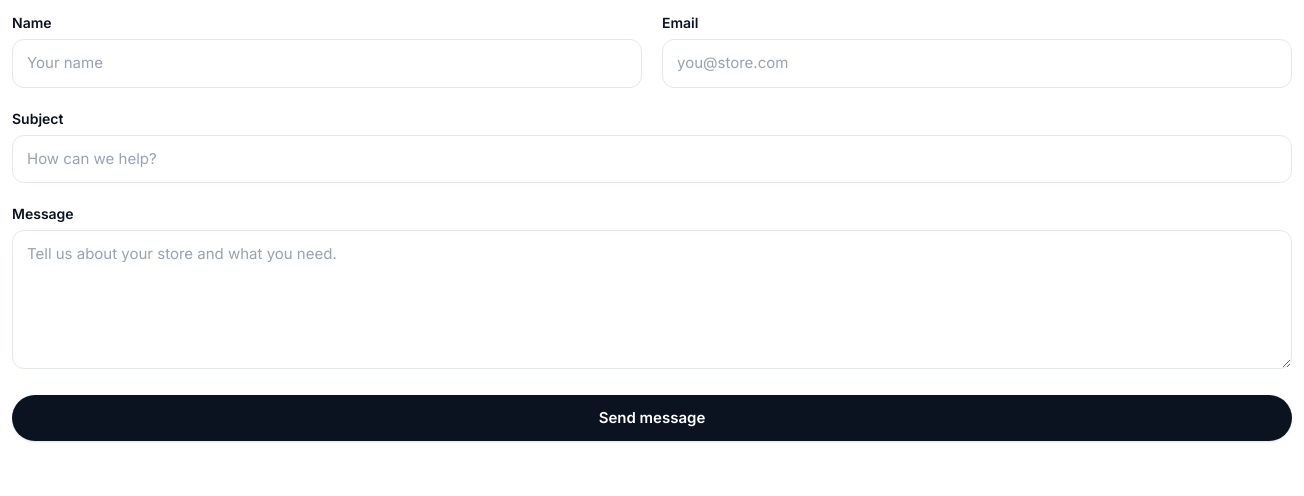
Scenario: ContactForm › shows a failure state when the server responds 400
Type "Sam" into the field labelled "Name" at (327, 63), box [12,39,642,88]
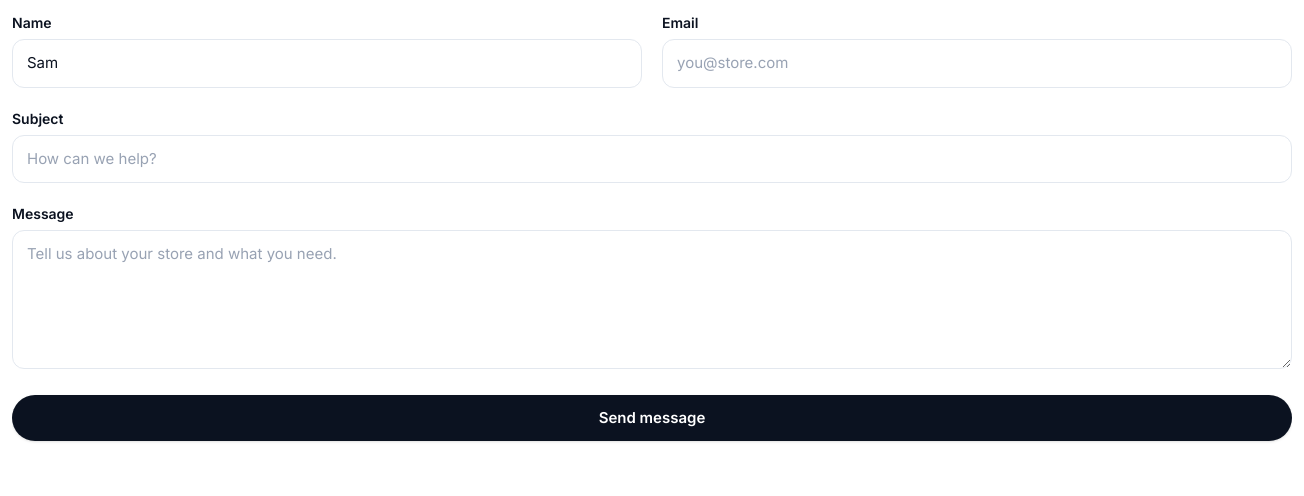
Type "sam@example.com" into the field labelled "Email" at (977, 63), box [662,39,1292,88]
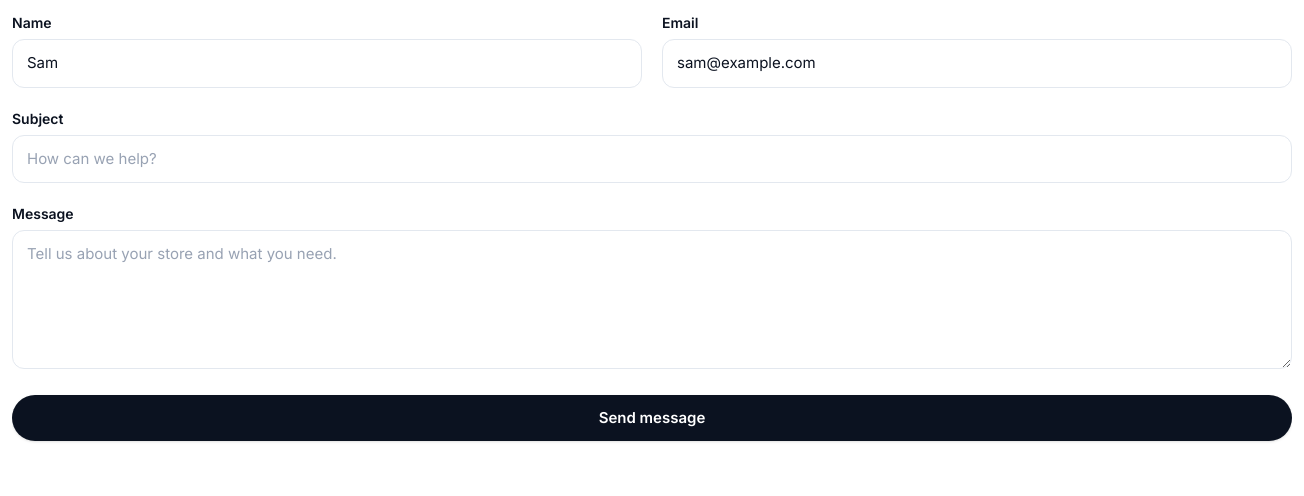
Type "Hi" into the field labelled "Subject" at (652, 159), box [12,134,1292,183]
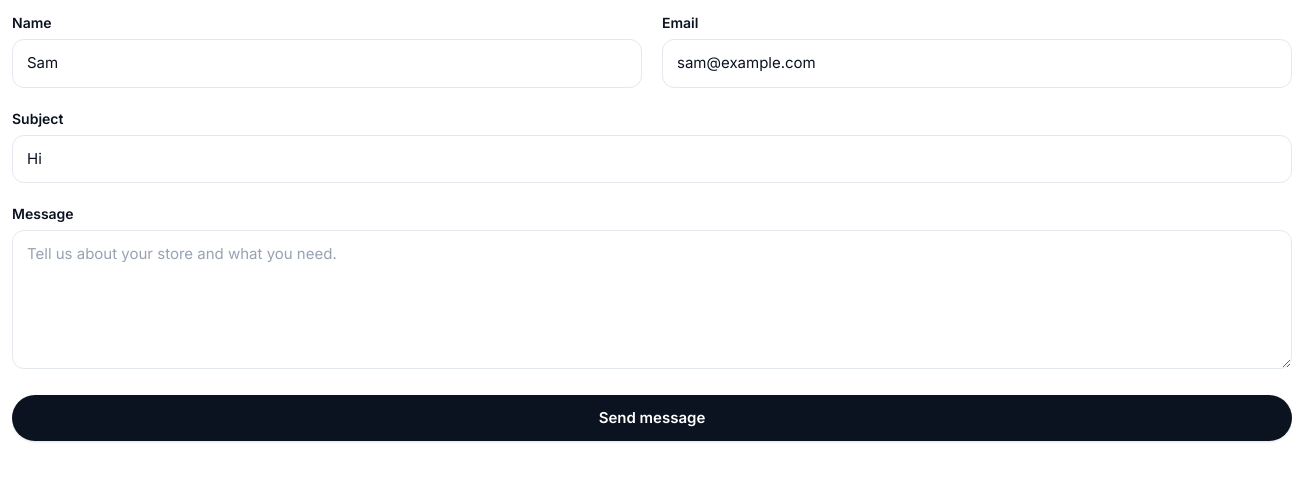
Type "I want to start a brand." into the text box labelled "Message" at (652, 299), box [12,230,1292,368]
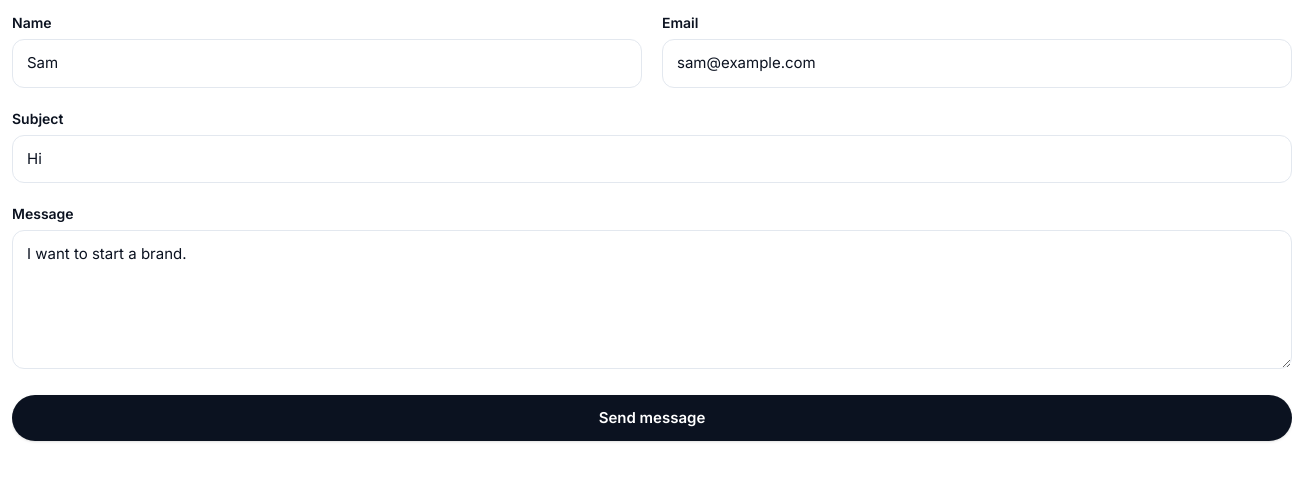
Click the button "Send message" at (652, 418), box [12,394,1292,441]
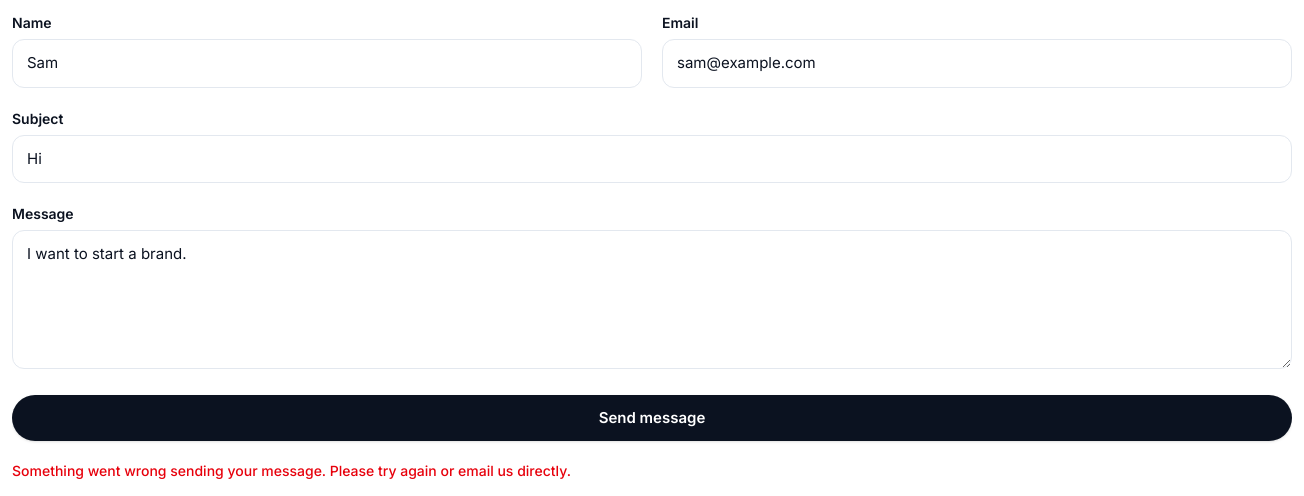
Result: the text "Something went wrong" is shown at [12,462,571,479]
